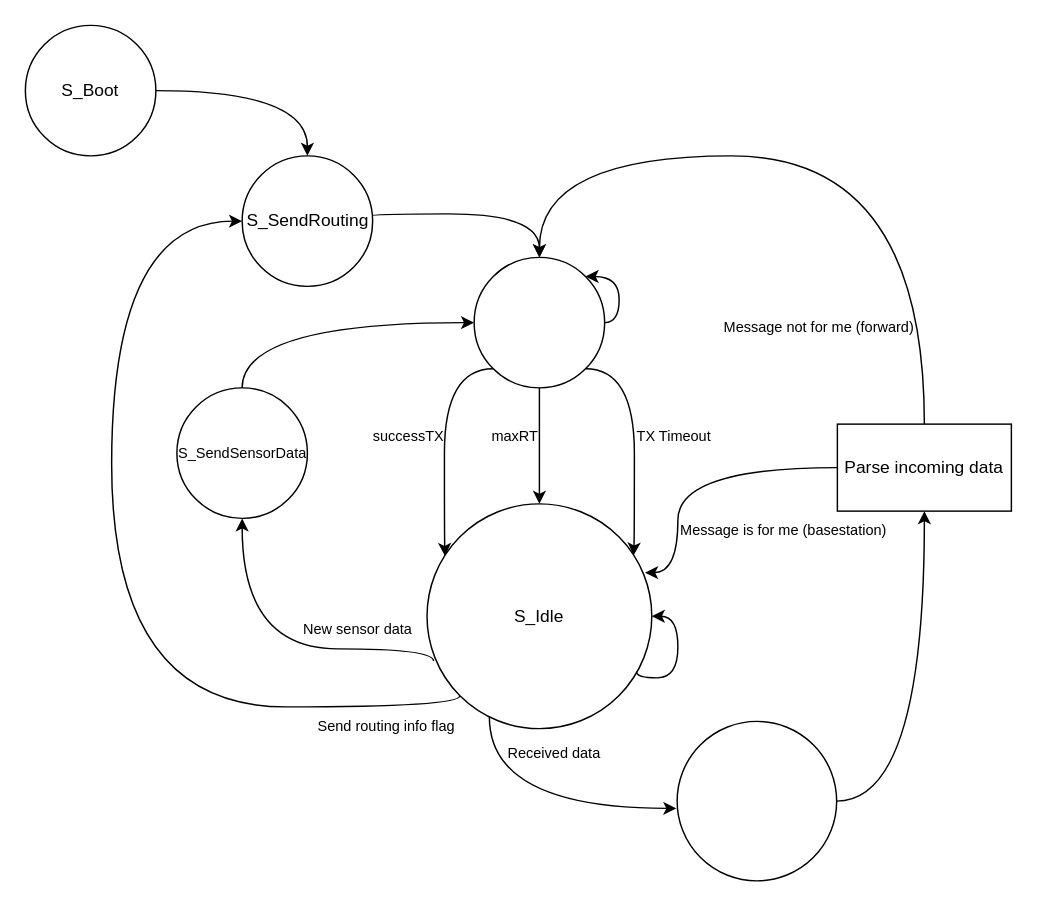
Image size: 1037x906. Some labels were removed from this diagram. The shapes that lost their labels are listed below. From the top down, each one's centre as x and y in pixels, then its label:
the point at 539,322: S_WaitForTx
the point at 756,800: S_GotMail
